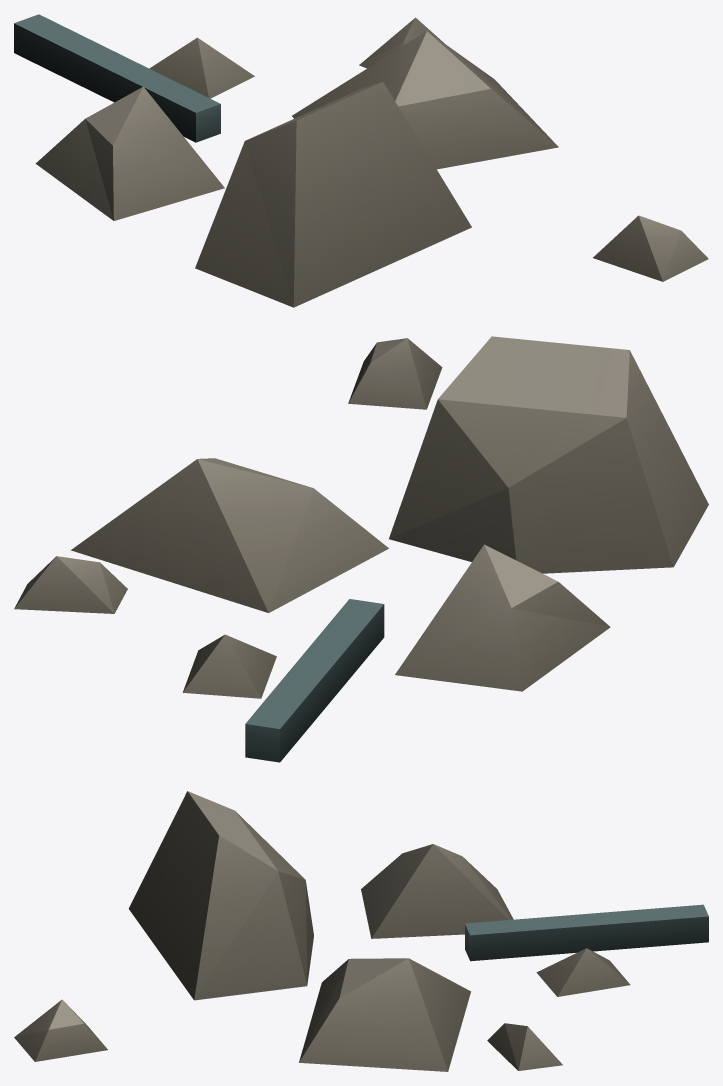
File: Debris_Pile_1A.fbx
3 views of the same model, one above another, from view 1: azimuth 30°, elevation 25°; view 2: azimuth 150°, elevation 25°; view 3: azimuth 270°, elevation 25° (orthographic). The views are drawn at different scales.
Visible parts, largest first — view 1: Debris_Pile_1A; view 2: Debris_Pile_1A; view 3: Debris_Pile_1A.
Boxes of the visible parts, x1,y1,x2,y2 form: Debris_Pile_1A: (14,14,708,307); Debris_Pile_1A: (14,336,708,762); Debris_Pile_1A: (14,791,708,1071).
Size of the model in its own units: 1.21 by 0.4112 by 1.94.
